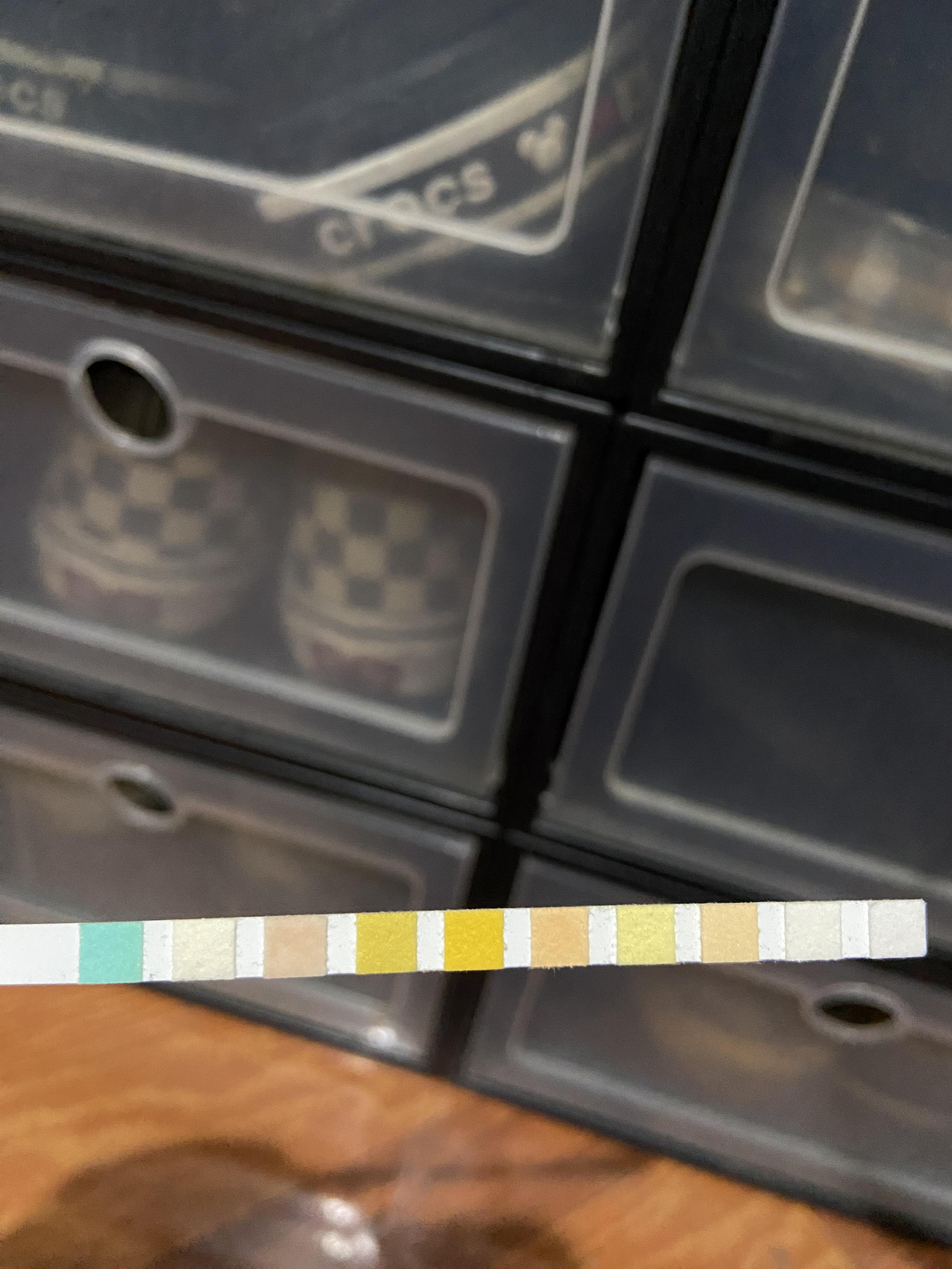Bilirubin: (177, 921, 230, 977)
Blood: (447, 913, 501, 969)
Glucose: (82, 925, 139, 981)
Ketone: (267, 919, 325, 975)
Leukocytes: (873, 903, 922, 955)
Nitrite: (790, 905, 839, 957)
Protein: (620, 908, 672, 960)
SpGravity: (359, 915, 413, 970)
Urobilinogen: (705, 906, 755, 960)
pH: (535, 910, 586, 964)
strip: (1, 900, 928, 987)
